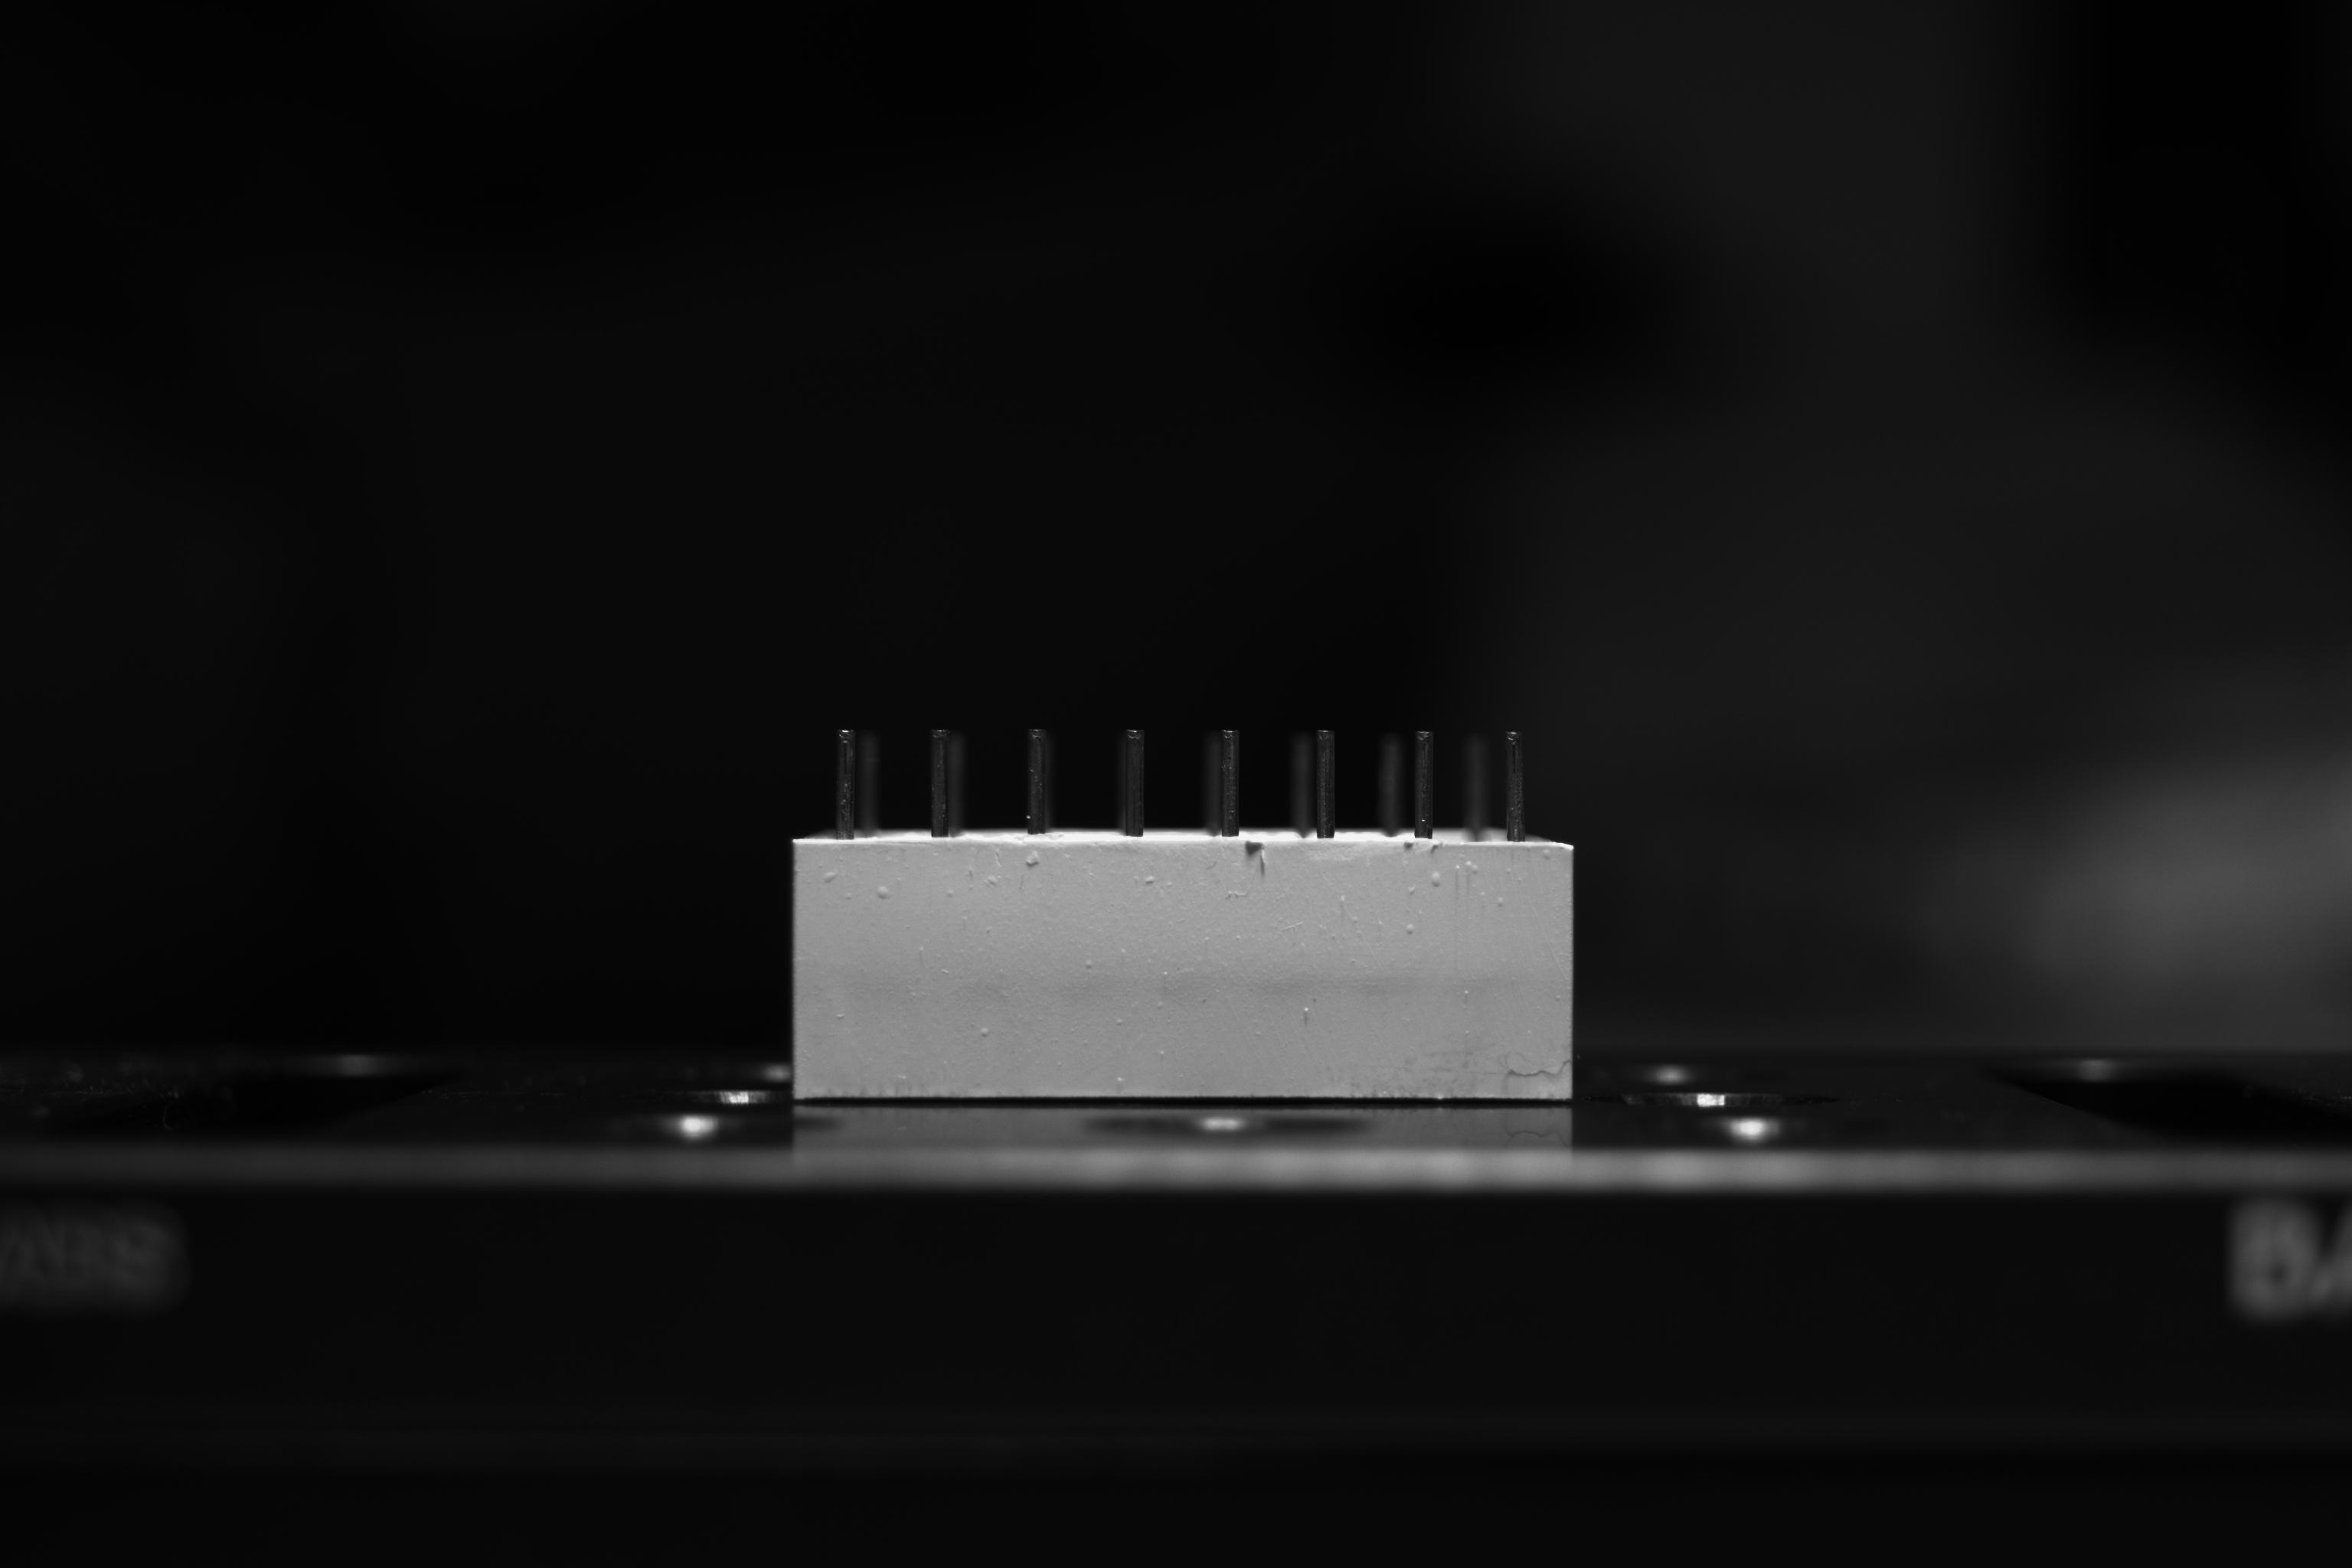Component: (787, 723, 1580, 1106)
